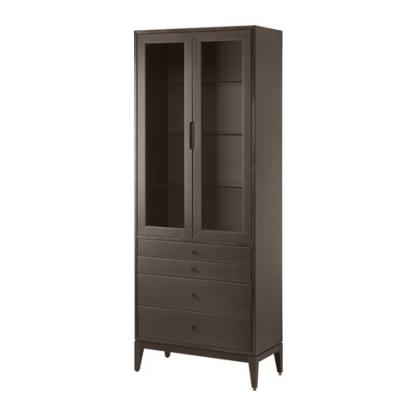Cabinet: (127, 21, 290, 392)
